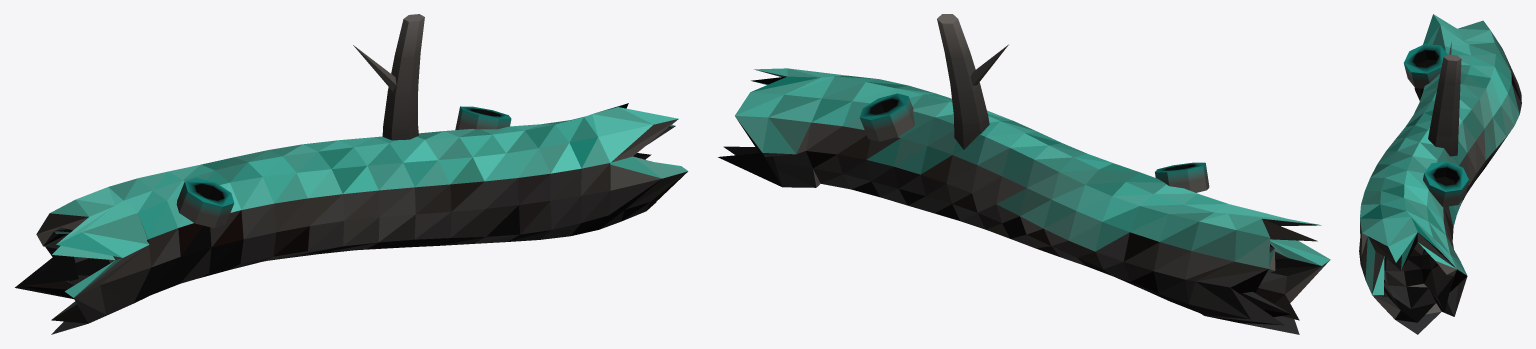
The model's file is pohon_tumbang_hollow_swamp_588891.glb.
3 views of the same model, side by side, from view 1: azimuth 30°, elevation 25°; view 2: azimuth 150°, elevation 25°; view 3: azimuth 270°, elevation 25° (orthographic). The views are drawn at different scales.
Parts seen in each view (by area): view 1: Batang_Pohon_Berlubang; view 2: Batang_Pohon_Berlubang; view 3: Batang_Pohon_Berlubang.
Boxes of the visible parts, <box> form: Batang_Pohon_Berlubang: <box>15,14,688,334</box>; Batang_Pohon_Berlubang: <box>718,14,1330,334</box>; Batang_Pohon_Berlubang: <box>1359,14,1521,334</box>.
Bounding box in the file's own units: 5.55 × 2.04 × 1.55.
